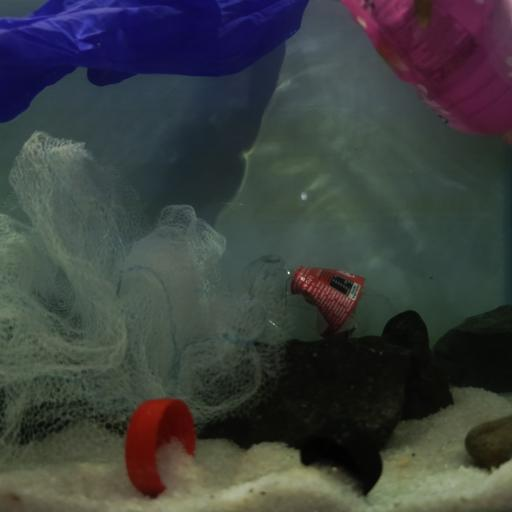bottle_cap: (126, 398, 196, 497), (303, 419, 385, 494)
glove: (2, 0, 310, 125)
net: (0, 130, 299, 467)
plastic_bottle: (346, 0, 512, 138), (240, 251, 398, 339)
